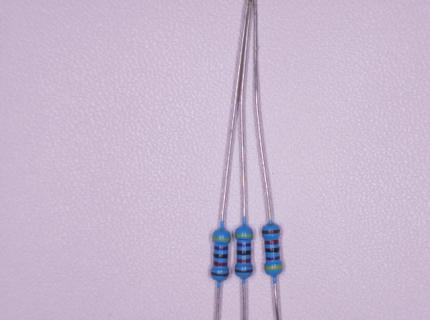Black band: (214, 253, 228, 259), (265, 248, 280, 253), (237, 250, 251, 255)
Brown band: (262, 229, 281, 235), (211, 272, 229, 277), (235, 268, 253, 273)
Red band: (213, 261, 228, 267), (265, 240, 279, 245), (237, 259, 251, 263)
Violet band: (214, 246, 228, 251), (237, 243, 251, 247), (266, 256, 280, 260)
Yellow band: (212, 236, 231, 242), (265, 265, 283, 270), (235, 234, 253, 238)
